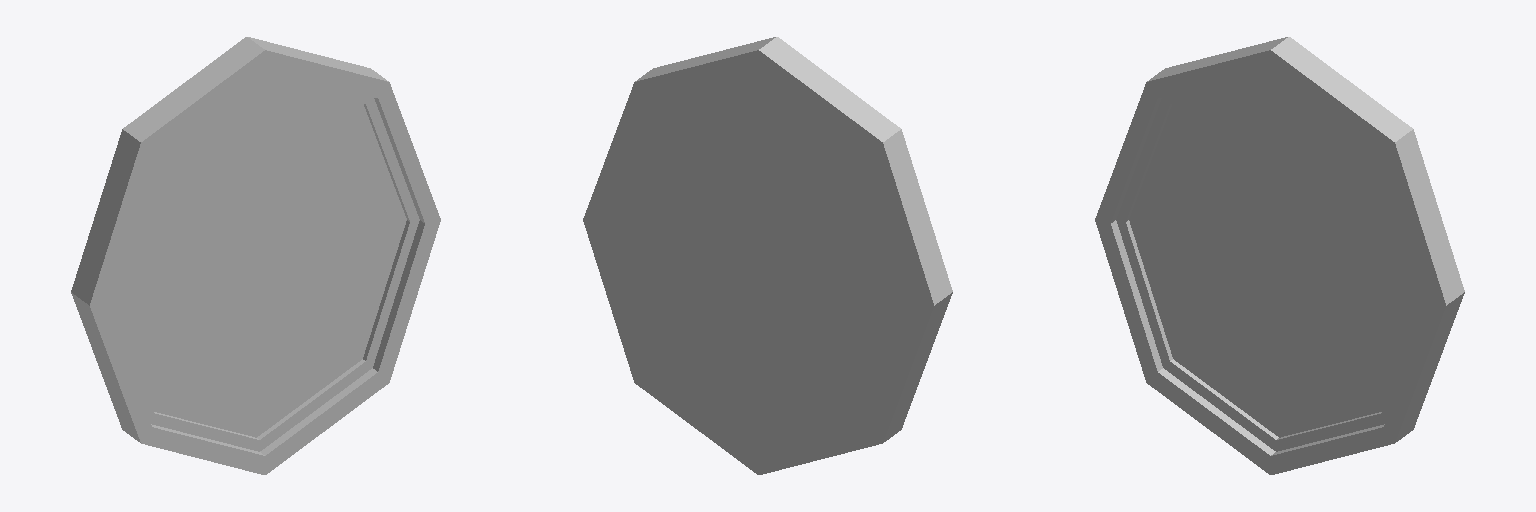
Rendered from Piture_01.obj.
3 renders of one model, left to right at view 1: azimuth 30°, elevation 25°; view 2: azimuth 150°, elevation 25°; view 3: azimuth 330°, elevation 25°, orthographic.
Visible parts, largest first — view 1: pCylinder1; view 2: pCylinder1; view 3: pCylinder1.
Boxes of the visible parts, x1=… form: pCylinder1: x1=71, y1=37, x2=440, y2=474; pCylinder1: x1=583, y1=37, x2=952, y2=474; pCylinder1: x1=1095, y1=37, x2=1464, y2=474.
Bounding box in the file's own units: 2 × 2.31 × 0.184.